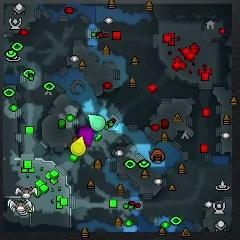p1: (93, 132, 98, 140)
p2: (88, 114, 106, 131)
p3: (78, 126, 94, 147)
p4: (71, 136, 86, 156)
